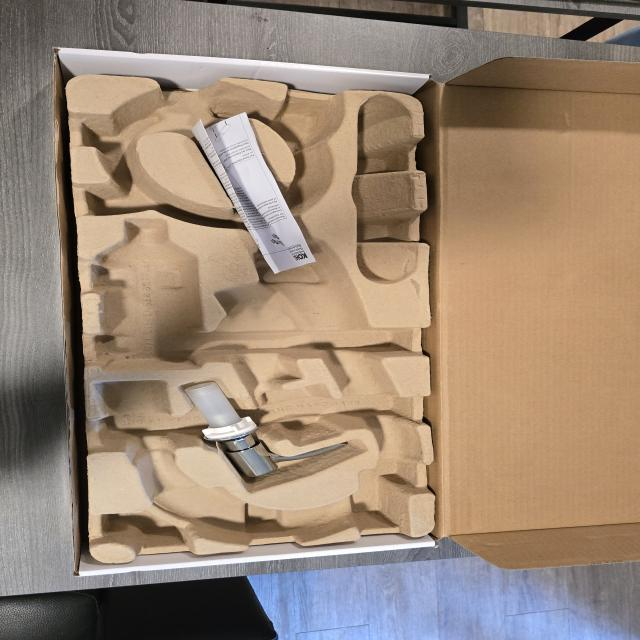1m: (95, 79, 418, 540)
2: (184, 382, 353, 479)
3m: (95, 218, 197, 368)
4m: (353, 94, 416, 286)
5m: (273, 99, 339, 146)
6m: (87, 108, 163, 148)
7m: (80, 172, 177, 215)
8: (190, 110, 318, 275)
